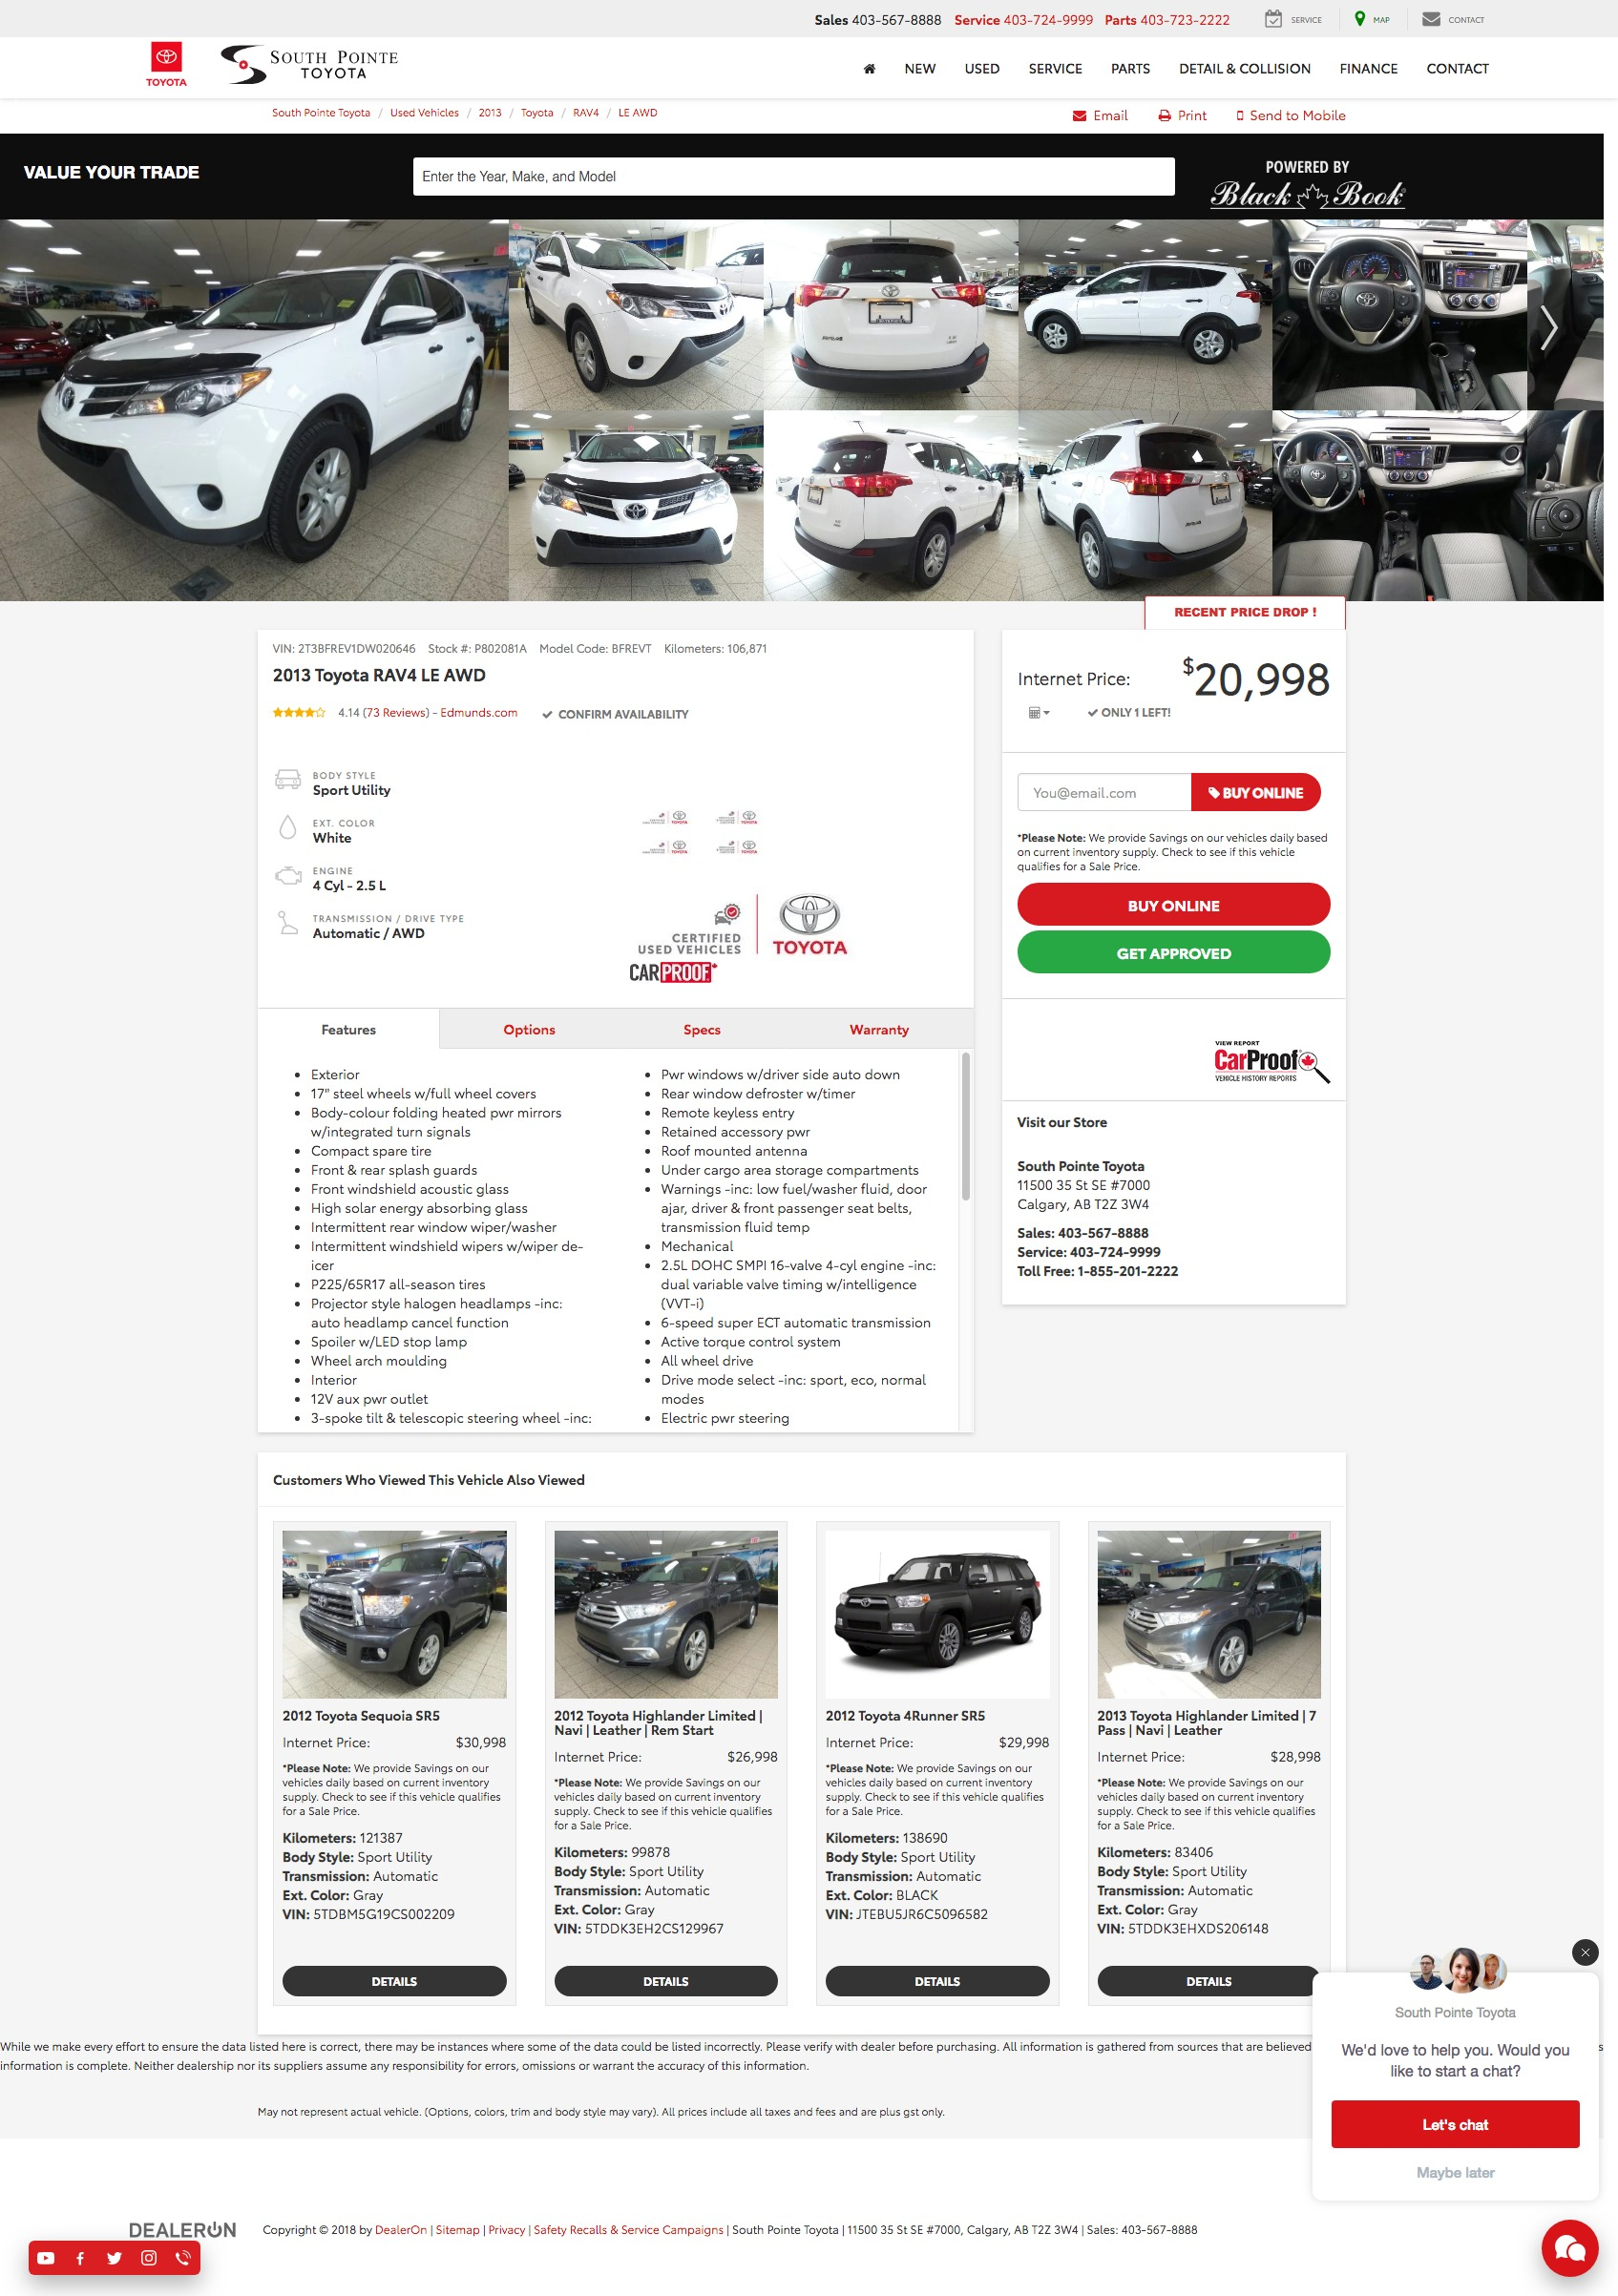car: (1539, 306, 1558, 352)
